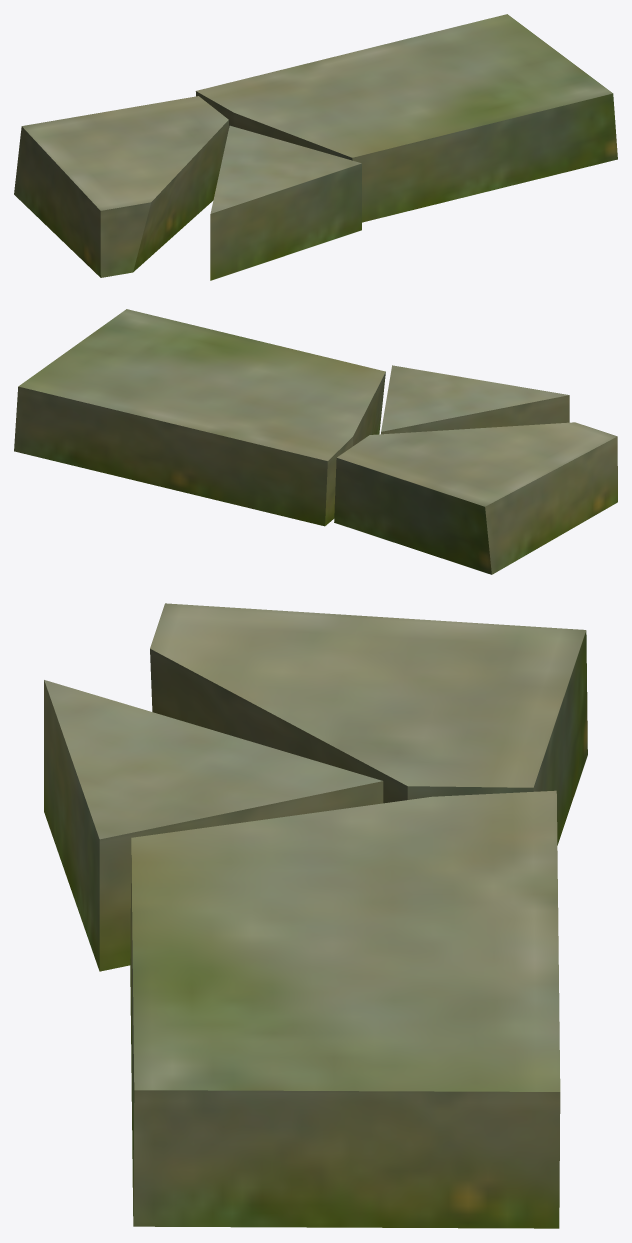
The model's file is bx_ground_028.fbx.
3 renders of one model, top to bottom at view 1: azimuth 30°, elevation 25°; view 2: azimuth 150°, elevation 25°; view 3: azimuth 270°, elevation 25°, orthographic. The views are drawn at different scales.
Visible parts, largest first — view 1: bx_ground_028; view 2: bx_ground_028; view 3: bx_ground_028.
Boxes of the visible parts, x1,y1,x2,y2 form: bx_ground_028: (14, 14, 617, 280); bx_ground_028: (14, 309, 617, 574); bx_ground_028: (44, 603, 587, 1228).
Bounding box in the file's own units: 161 × 20.13 × 75.01.
